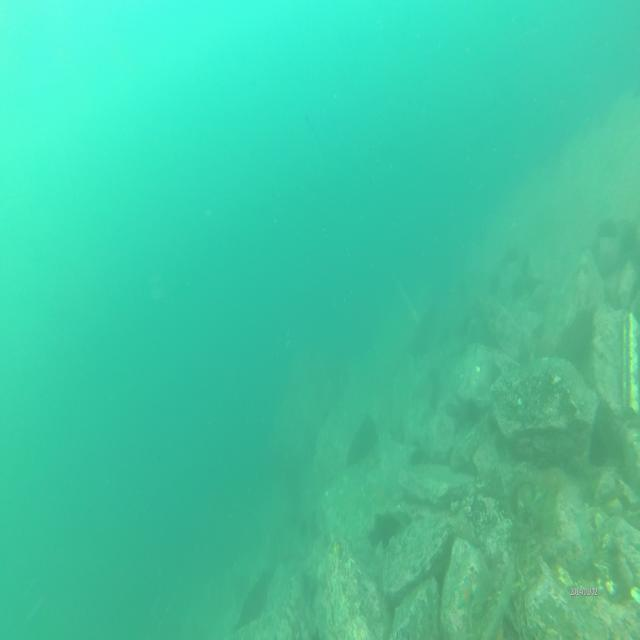holothurian: (473, 558, 522, 640)
starfish: (572, 511, 594, 543), (456, 579, 472, 610)
